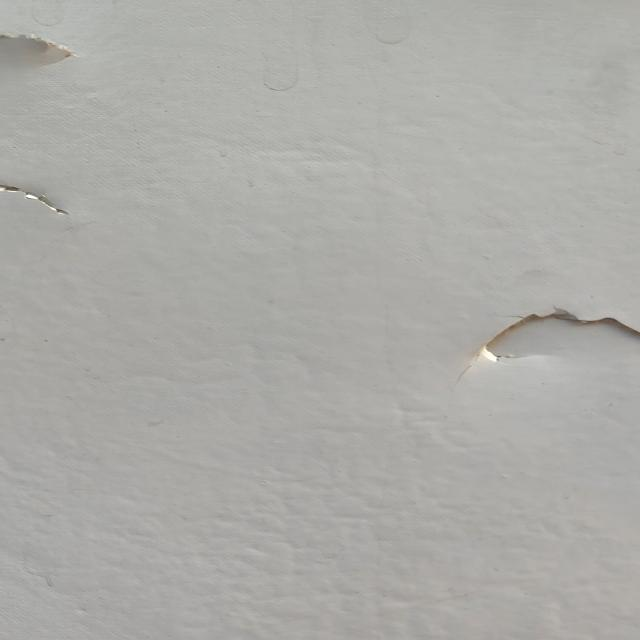Scratches: (455, 297, 640, 381), (1, 168, 98, 232), (1, 23, 74, 81)
